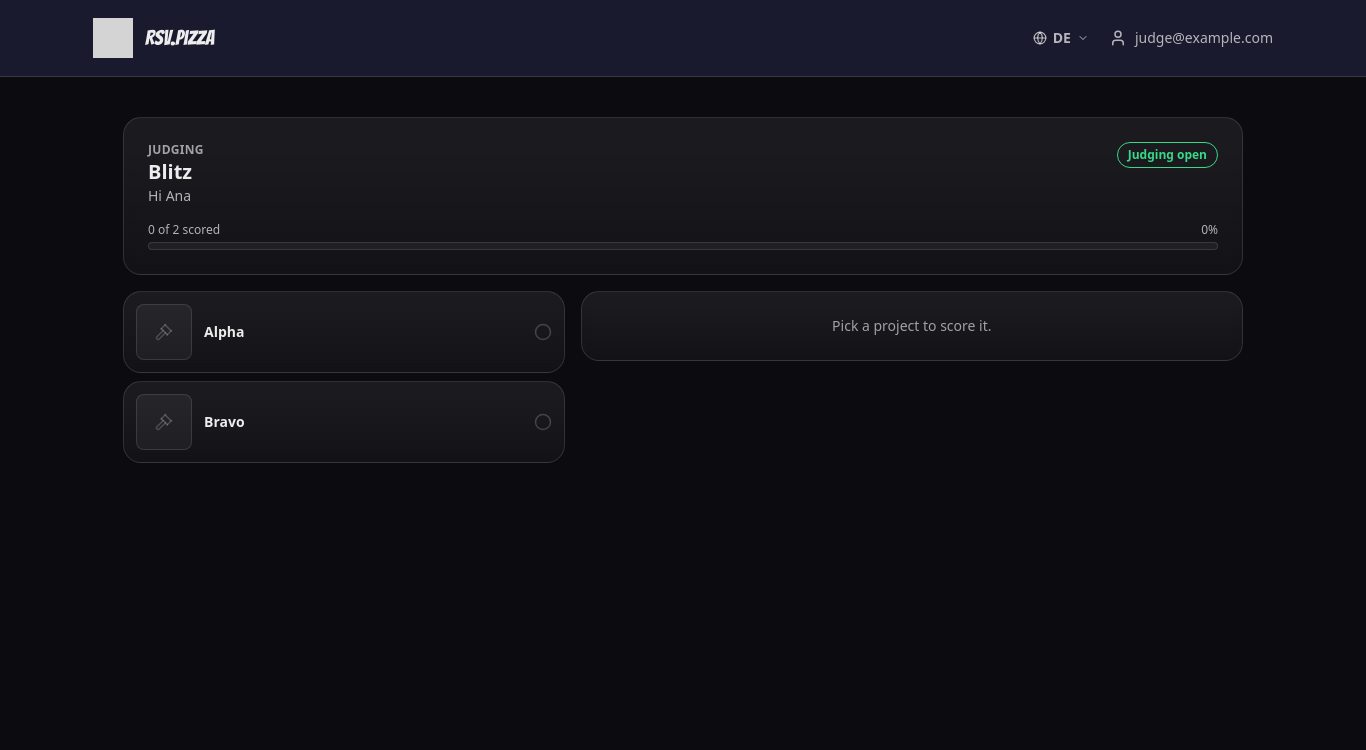
Test: JudgePage: switching projects can never save to the wrong one › while B loads, A's form (and its Save) is gone; B opens with a fresh form
Later steps or results of the test are not shown.
Click the button with test id "judge-queue-item": (164, 332) [123,291,565,373]
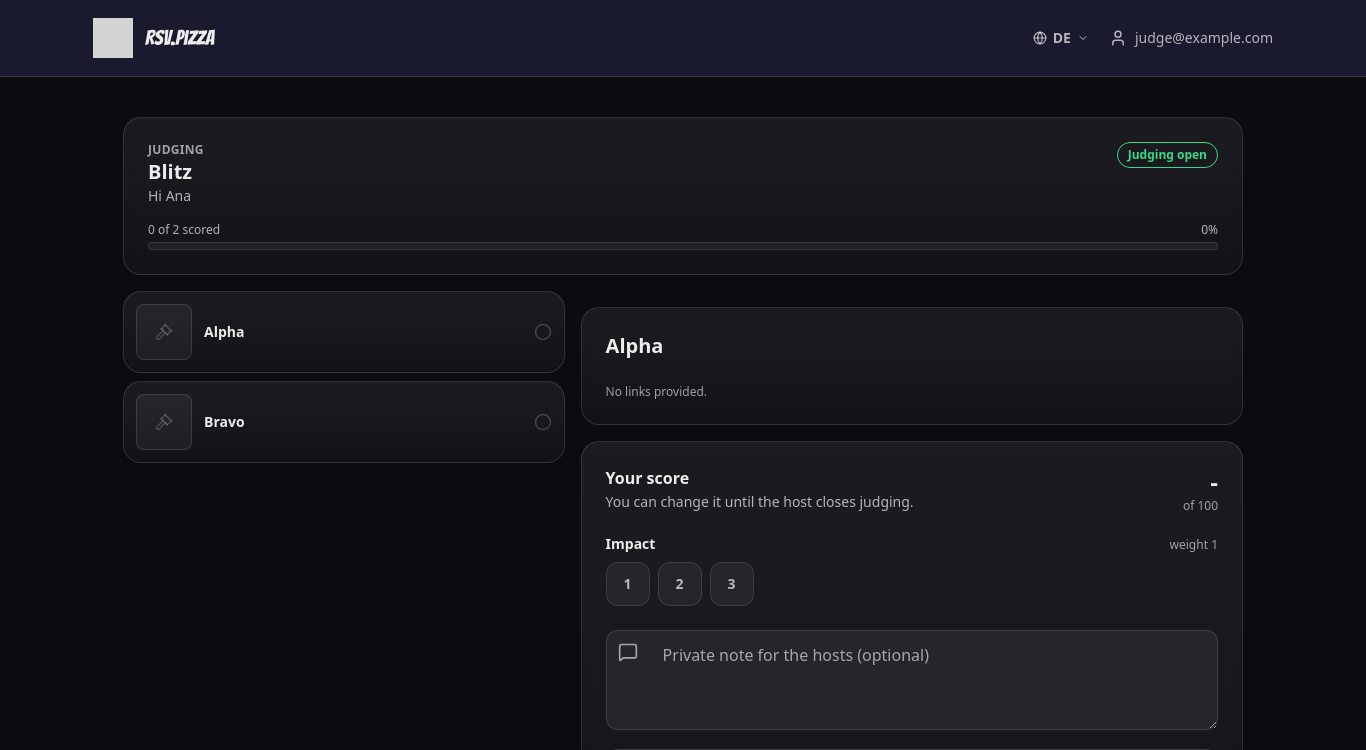
Click the radio button named "Impact: 3 of 3": (732, 584) [710,562,754,606]
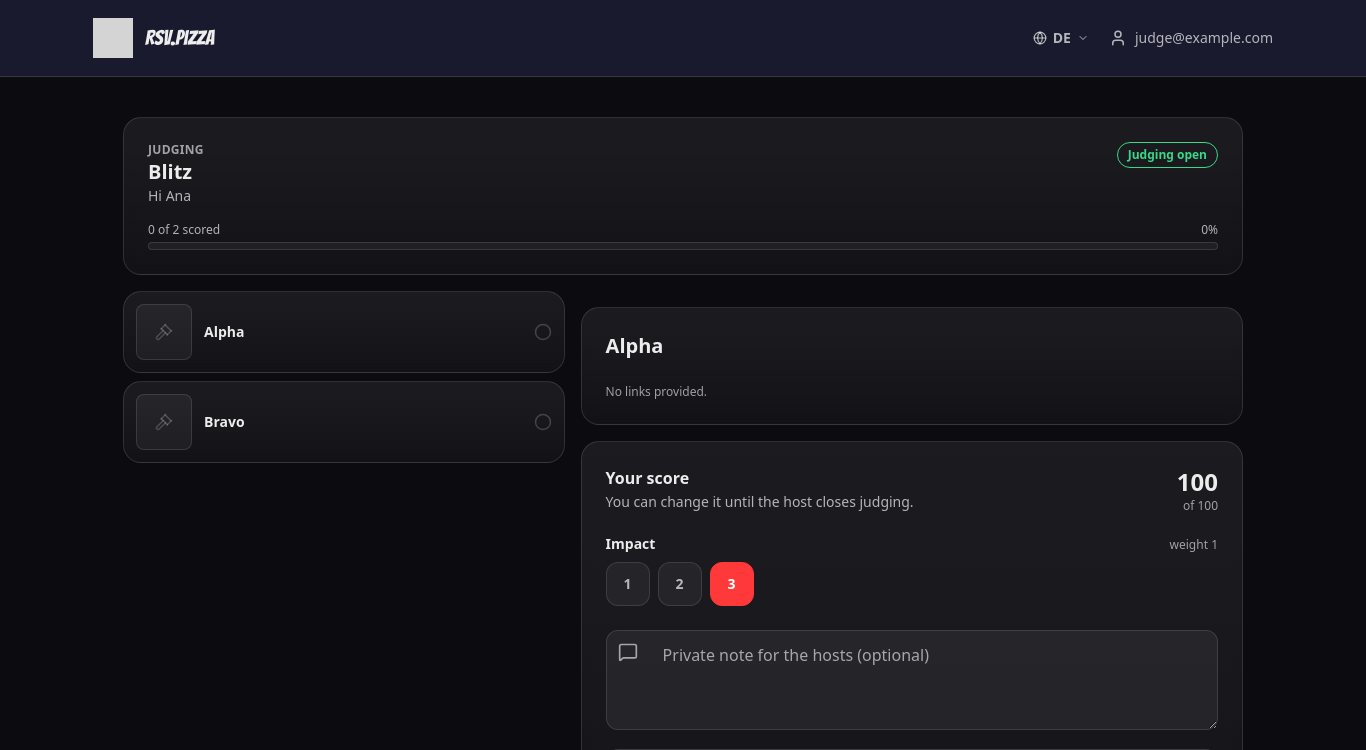
Click the button with test id "judge-queue-item": (164, 422) [123,381,565,463]
(page scrolled)
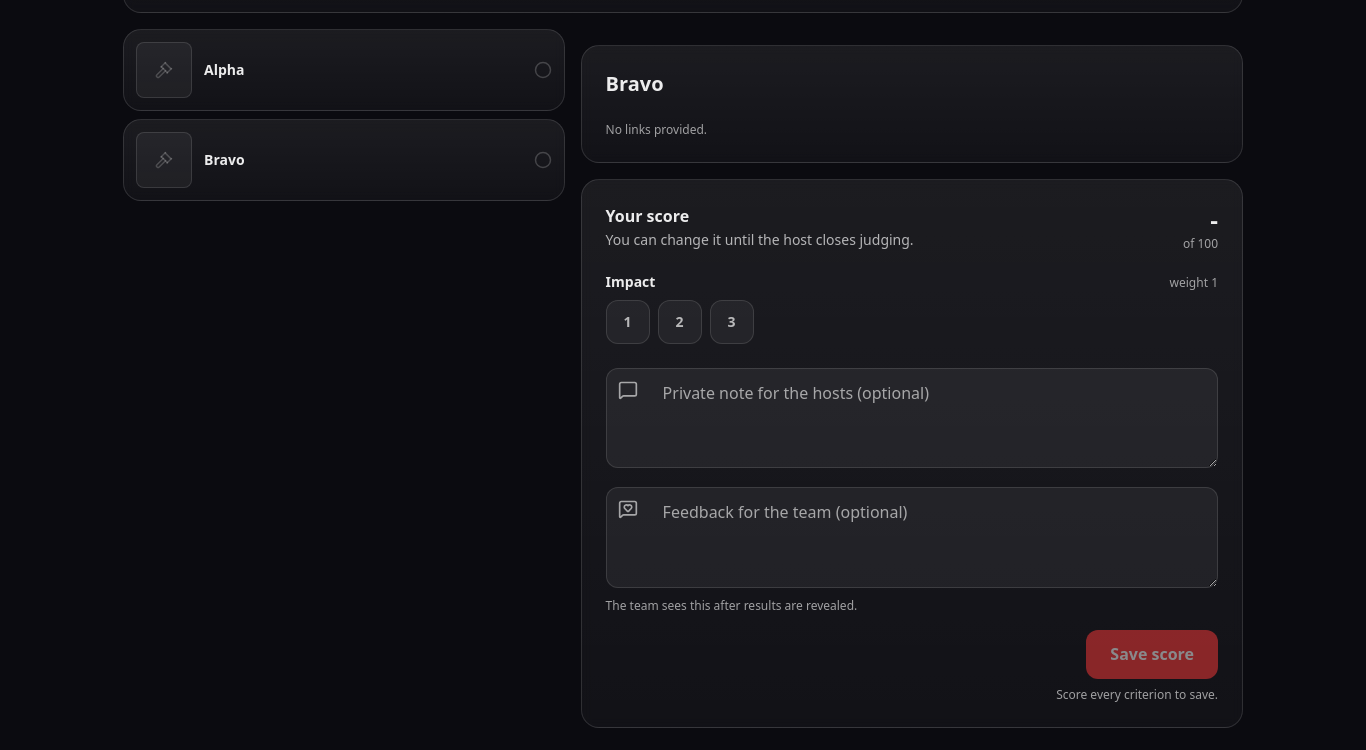
expect the heading "Bravo" is shown: met, box [606,70,664,97]
expect the button with test id "judge-save" is disabled: met, box [1086,630,1218,679]
